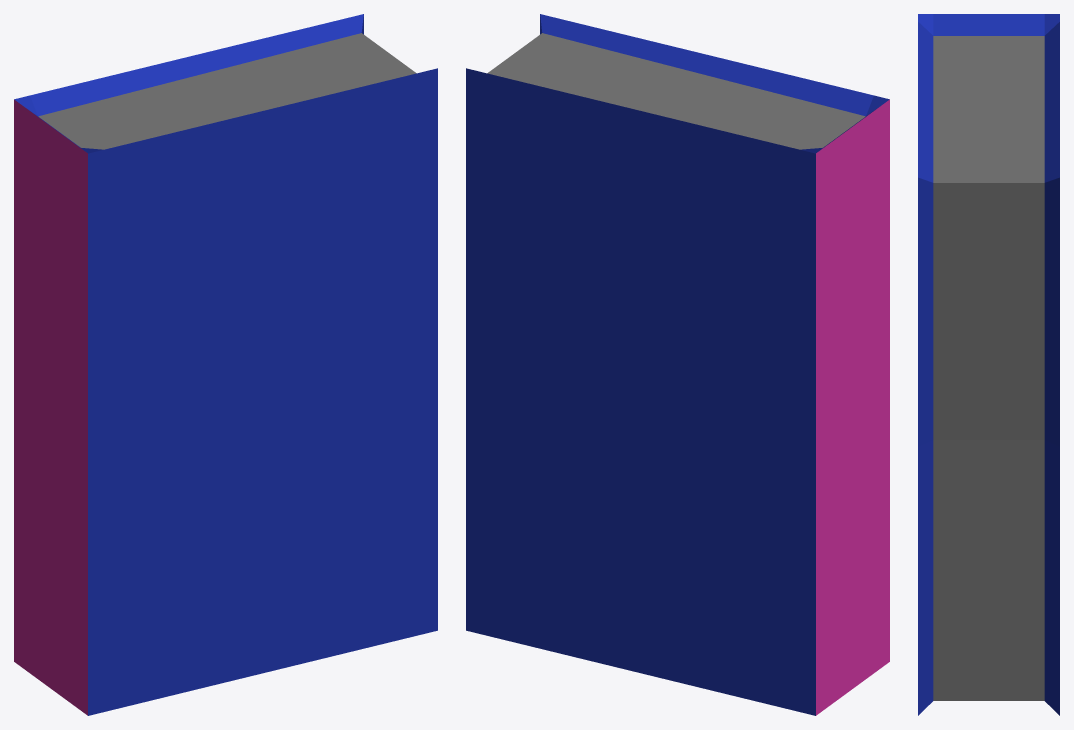
Rendered from BarrilBook.fbx.
3 renders of one model, left to right at view 1: azimuth 30°, elevation 25°; view 2: azimuth 150°, elevation 25°; view 3: azimuth 270°, elevation 25°, orthographic. The views are drawn at different scales.
Visible parts, largest first — view 1: polySurface2, polySurface1; view 2: polySurface1; view 3: polySurface1.
Boxes of the visible parts, x1,y1,x2,y2 form: polySurface2: (88,68,437,715); polySurface1: (14,14,416,715); polySurface1: (466,14,889,715); polySurface1: (918,14,1059,715).
Size of the model in its own units: 64.06 by 98.41 by 23.51.
